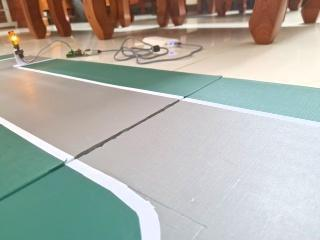yellow: (3, 26, 28, 53)
